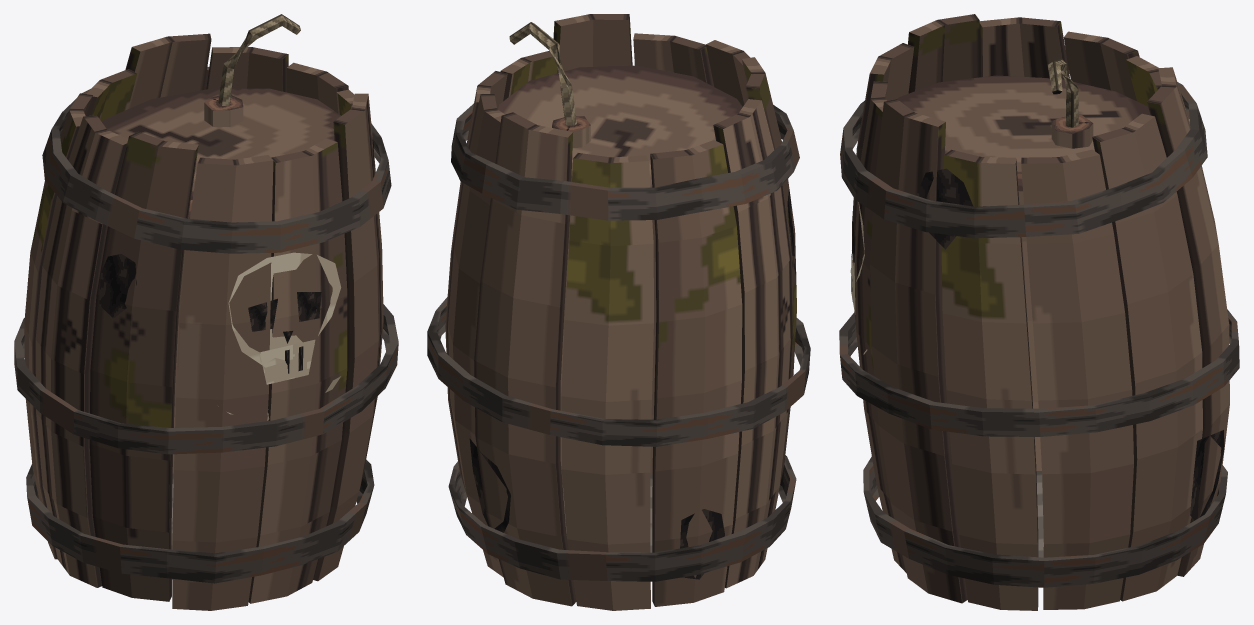
Rendered from SM_PowderBarrel.fbx.
3 views of the same model, side by side, from view 1: azimuth 30°, elevation 25°; view 2: azimuth 150°, elevation 25°; view 3: azimuth 270°, elevation 25° (orthographic). The views are drawn at different scales.
Parts seen in each view (by area): view 1: PB_Planks, PB_Props; view 2: PB_Planks, PB_Props; view 3: PB_Planks, PB_Props.
Boxes of the visible parts, x1,y1,x2,y2 form: PB_Planks: (24, 33, 383, 610); PB_Props: (14, 14, 398, 583); PB_Planks: (445, 14, 796, 610); PB_Props: (427, 22, 810, 581); PB_Planks: (852, 14, 1229, 610); PB_Props: (839, 46, 1239, 587).
Size of what is drawn, in the model's own units: 0.7621 by 1.12 by 0.7553.
